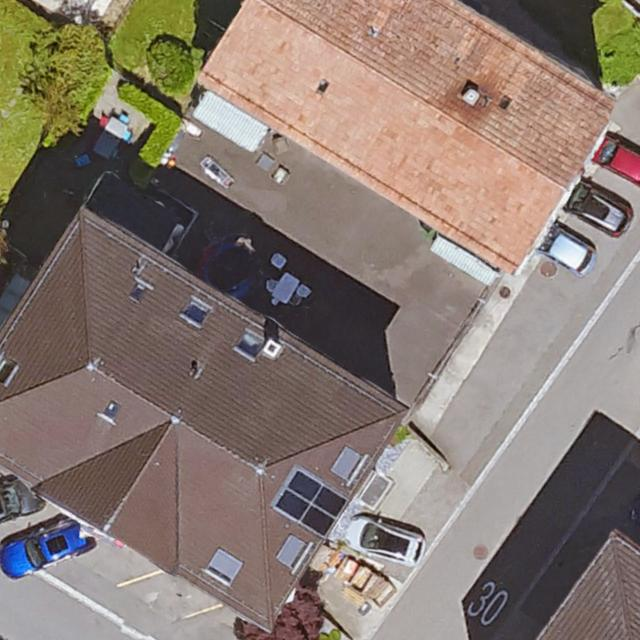tree: (20, 24, 110, 130), (147, 35, 193, 92)
